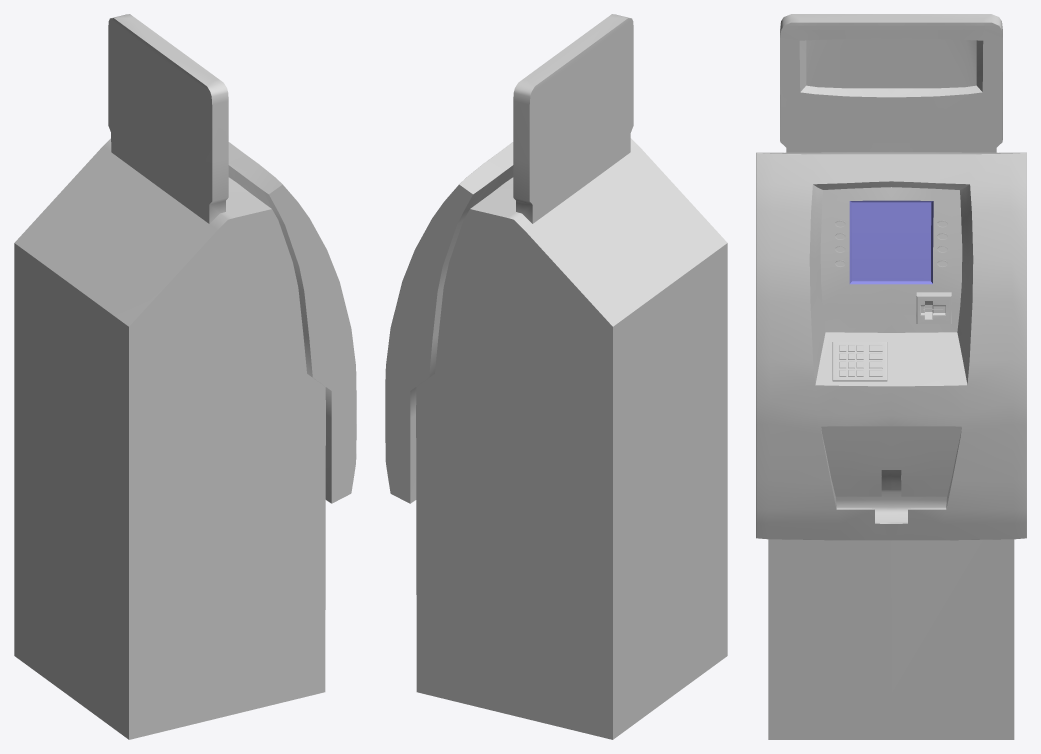
Rendered from ATM.fbx.
3 views of the same model, side by side, from view 1: azimuth 30°, elevation 25°; view 2: azimuth 150°, elevation 25°; view 3: azimuth 270°, elevation 25° (orthographic). The views are drawn at different scales.
Parts seen in each view (by area): view 1: SM_MERGED_Atrium_GroundFloor_32; view 2: SM_MERGED_Atrium_GroundFloor_32; view 3: SM_MERGED_Atrium_GroundFloor_32.
Boxes of the visible parts, box(x1,y1,x2,y2) form: SM_MERGED_Atrium_GroundFloor_32: box(14, 14, 356, 739); SM_MERGED_Atrium_GroundFloor_32: box(385, 14, 727, 739); SM_MERGED_Atrium_GroundFloor_32: box(756, 14, 1026, 739).
Size of the model in its own units: 80.1 by 212 by 77.76.
